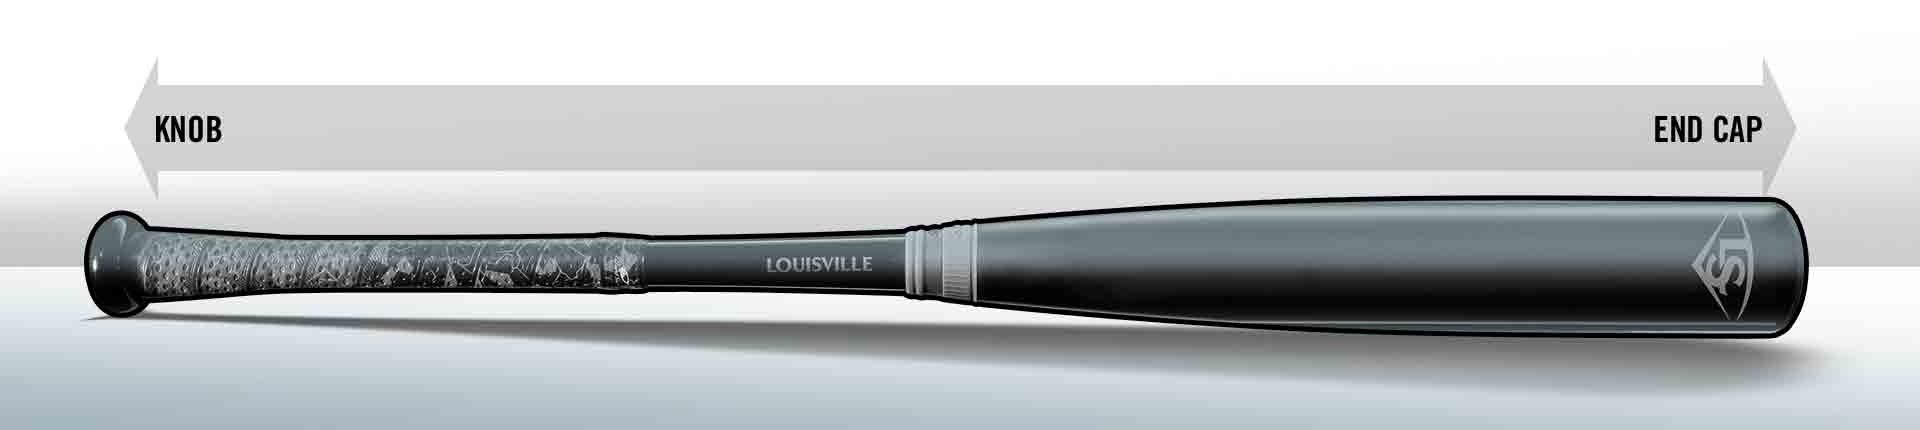bita: (82, 183, 1813, 339)
